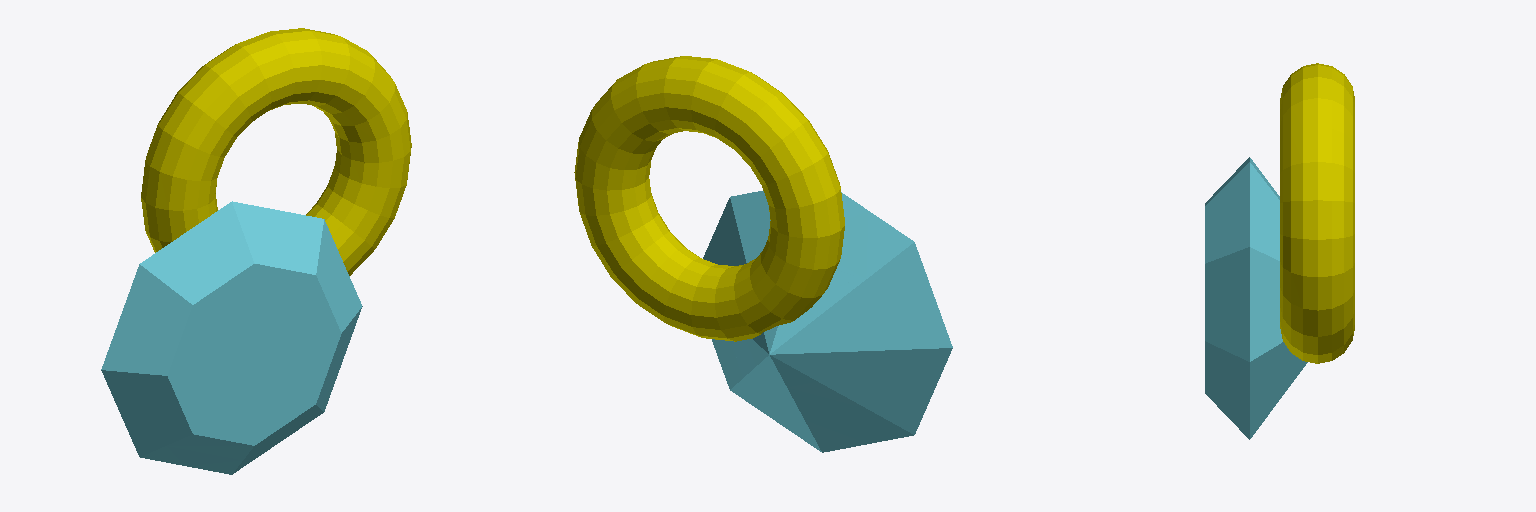
Rendered from tinker.obj.
The picture shows the model from 3 angles: view 1: azimuth 30°, elevation 25°; view 2: azimuth 150°, elevation 25°; view 3: azimuth 270°, elevation 25°; orthographic projection.
Visible parts, largest first — view 1: obj_0; view 2: obj_0; view 3: obj_0.
Part boxes in pixels (x1,y1,x2,y2): obj_0: (101, 28, 411, 474); obj_0: (574, 56, 952, 452); obj_0: (1205, 63, 1354, 439).
Size of the model in its own units: 26 by 29 by 10.